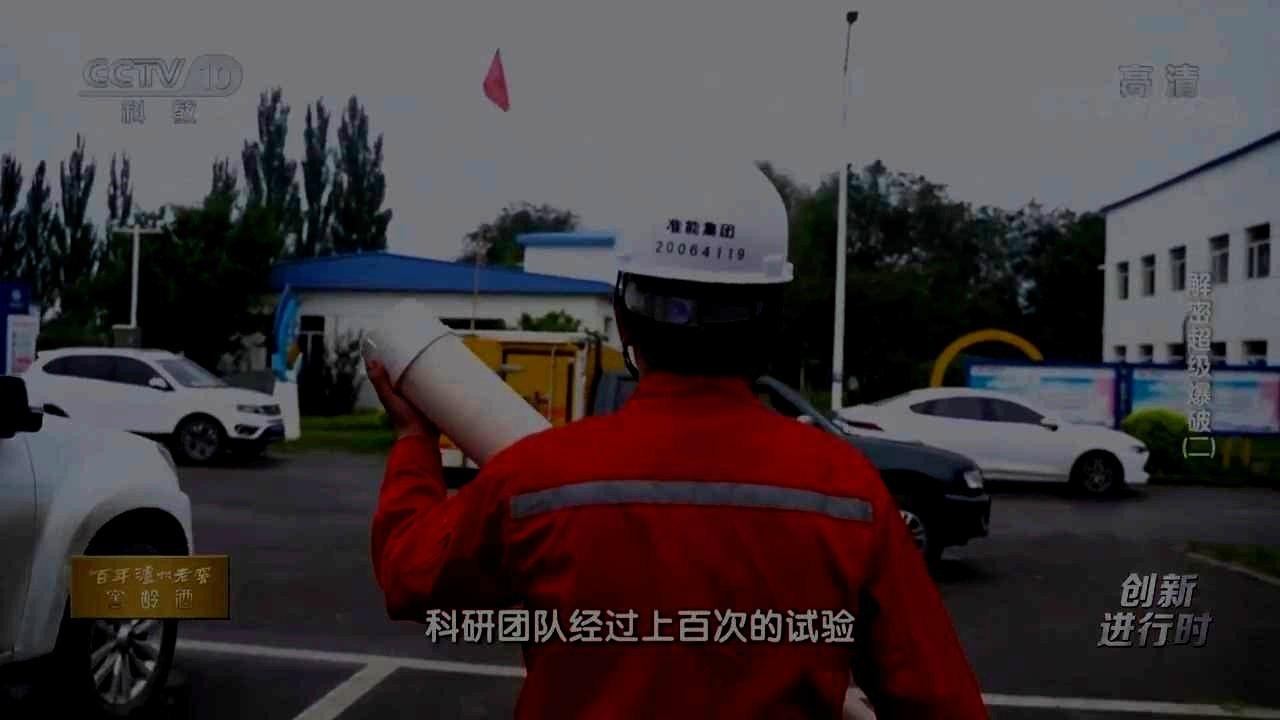helmet: (613, 146, 794, 377)
